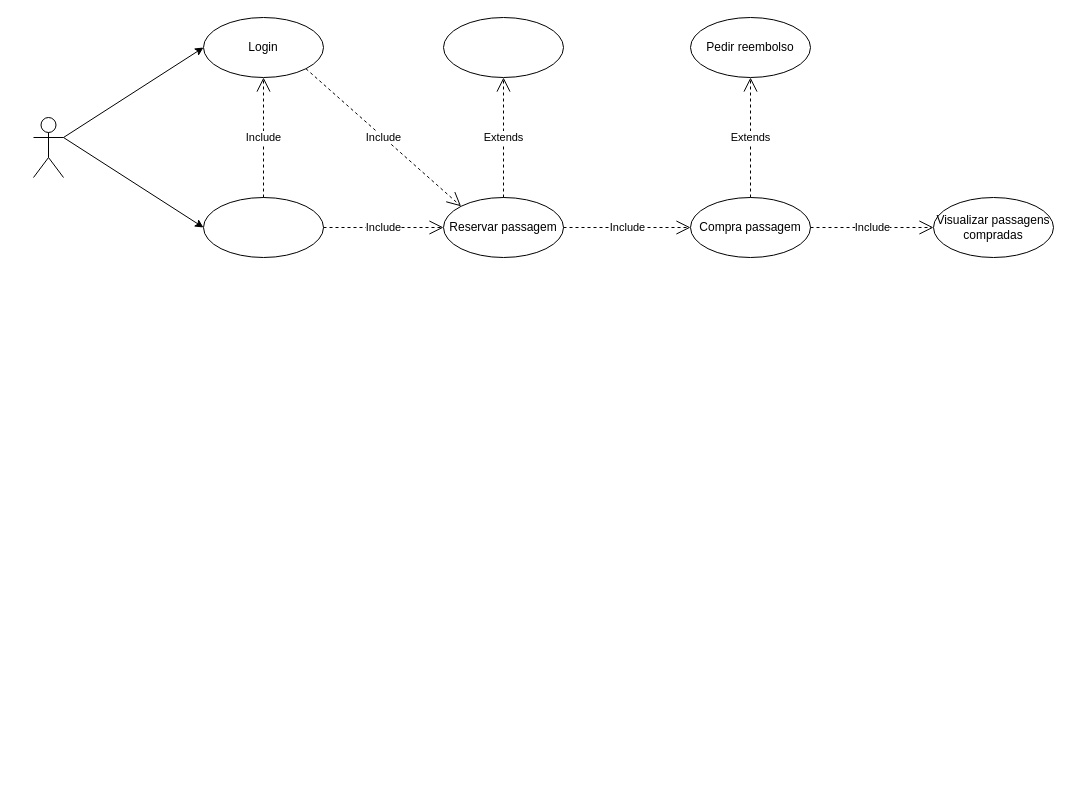
The diagram is 1071 pixels wide and 793 high, and some of its shapes have lost their labels. The centre of each missing label's shape, as x and y in pixels:
"Ator Cliente" belongs at [48,147].
"Cadastro" belongs at [263,227].
"Verifica se a passagem esta disponível" belongs at [503,47].
